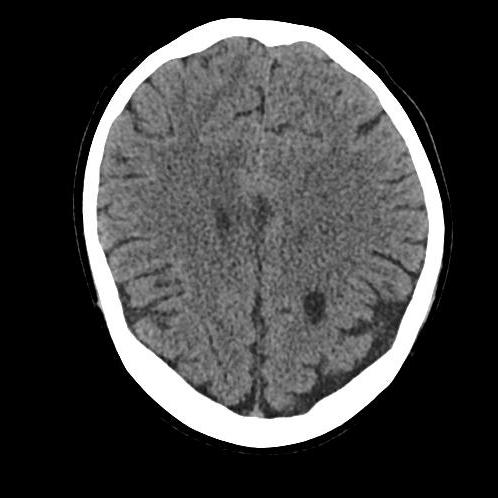Cancer: (285, 290, 340, 336)
